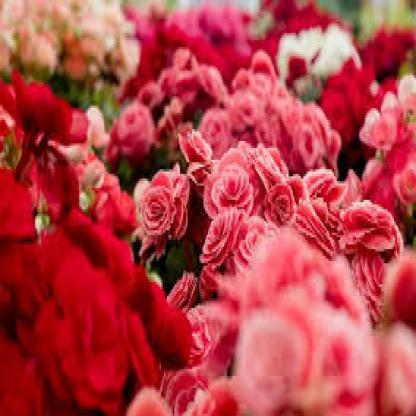Rose-Mawar: (1, 4, 416, 413)
